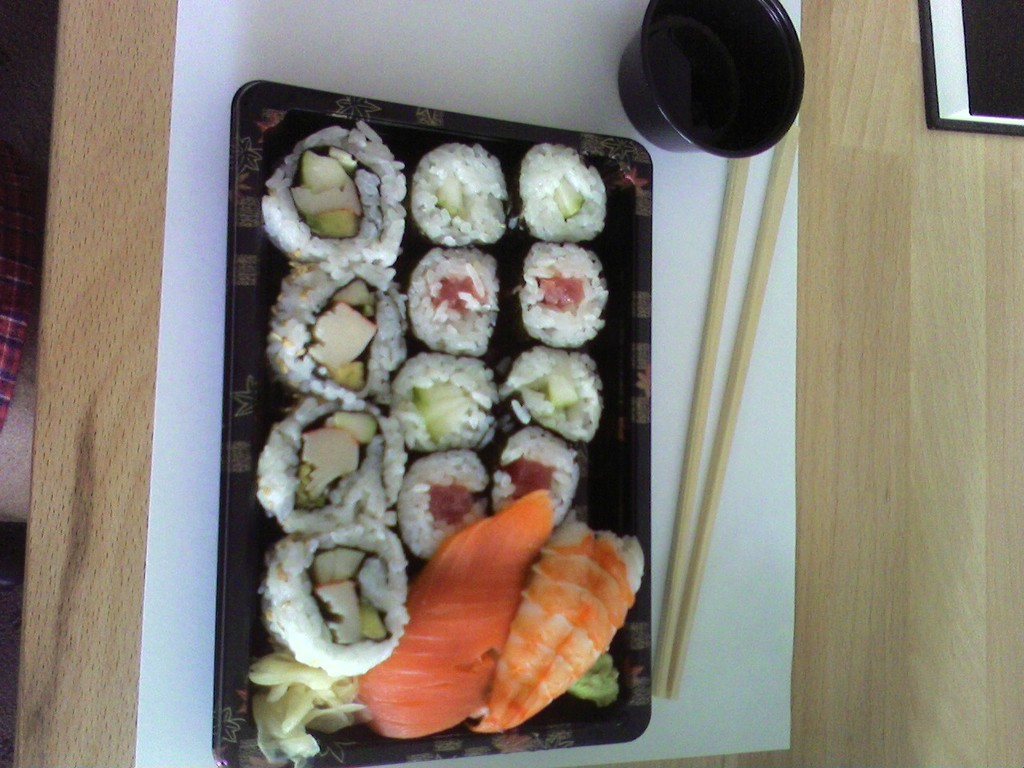sushi: (215, 110, 642, 767)
